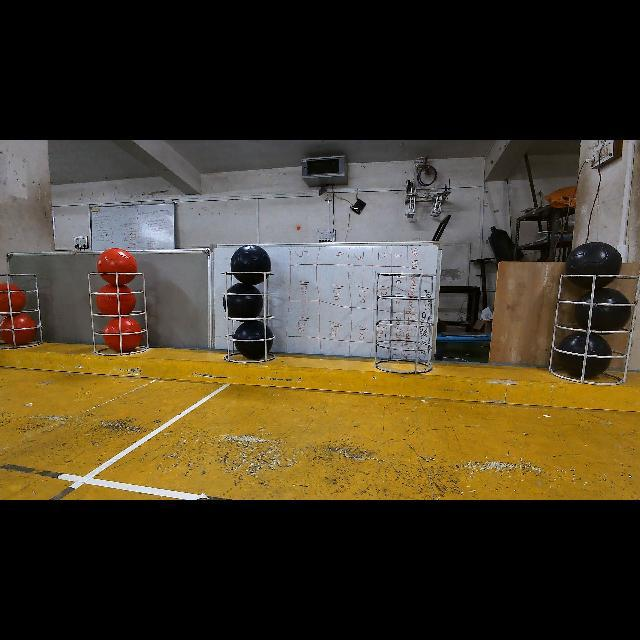P: (556, 331, 612, 379), (565, 242, 622, 289), (575, 288, 632, 331), (230, 245, 271, 285), (234, 320, 274, 360), (222, 282, 264, 319)
R: (96, 248, 138, 285), (102, 318, 142, 352), (96, 284, 136, 315), (0, 314, 36, 345), (0, 282, 26, 312)
S: (552, 270, 636, 390), (373, 265, 441, 379), (81, 264, 149, 356), (220, 271, 282, 367), (0, 268, 48, 356)
